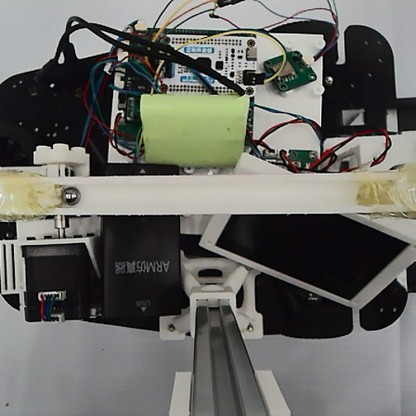ironball: (58, 184, 80, 205)
